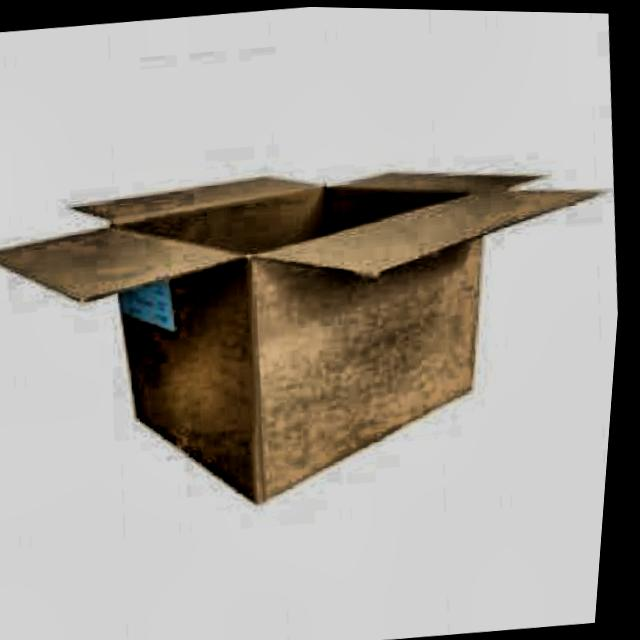Cardbox: (0, 91, 635, 556)
